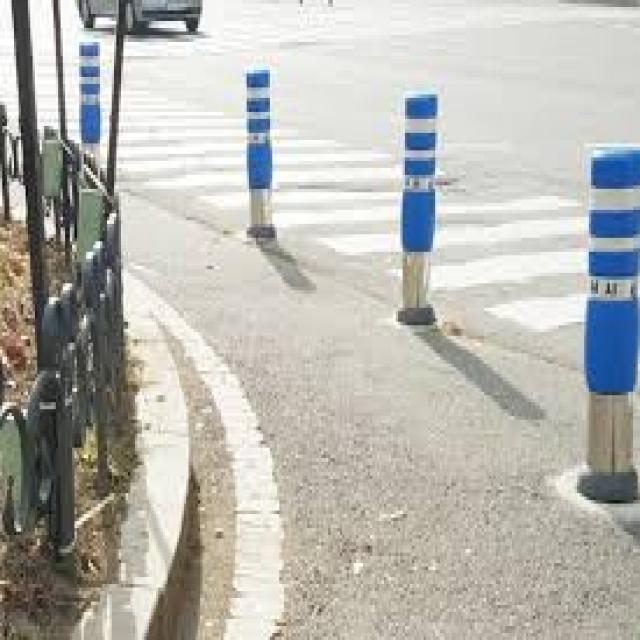bollard: (582, 130, 640, 507), (392, 76, 442, 332), (232, 59, 282, 248), (75, 37, 103, 173)
